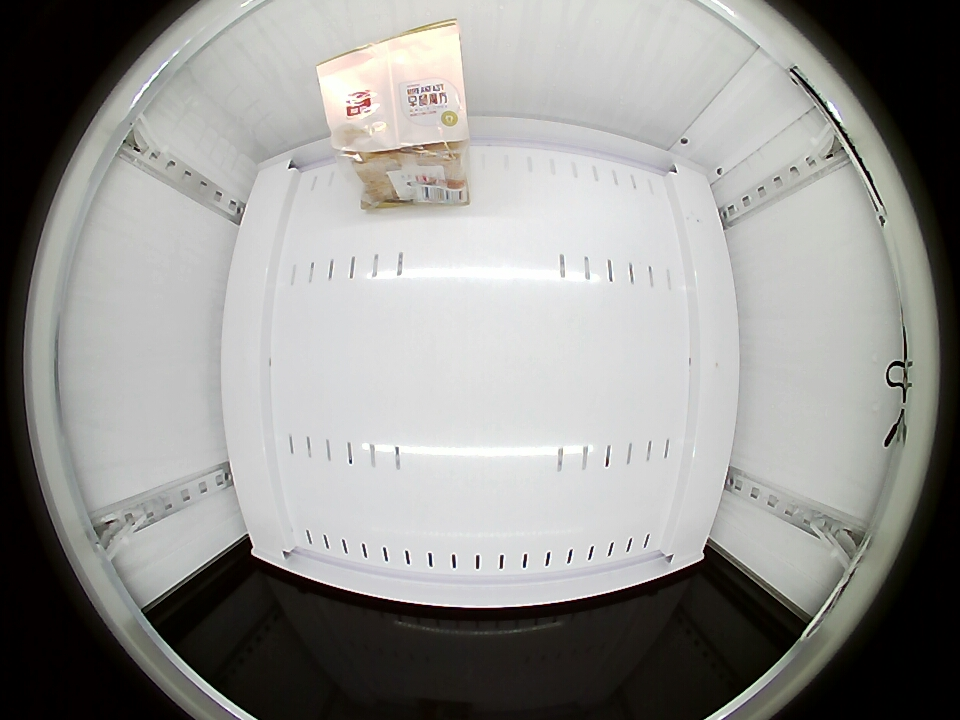zaocanmofang: (317, 24, 467, 159)
